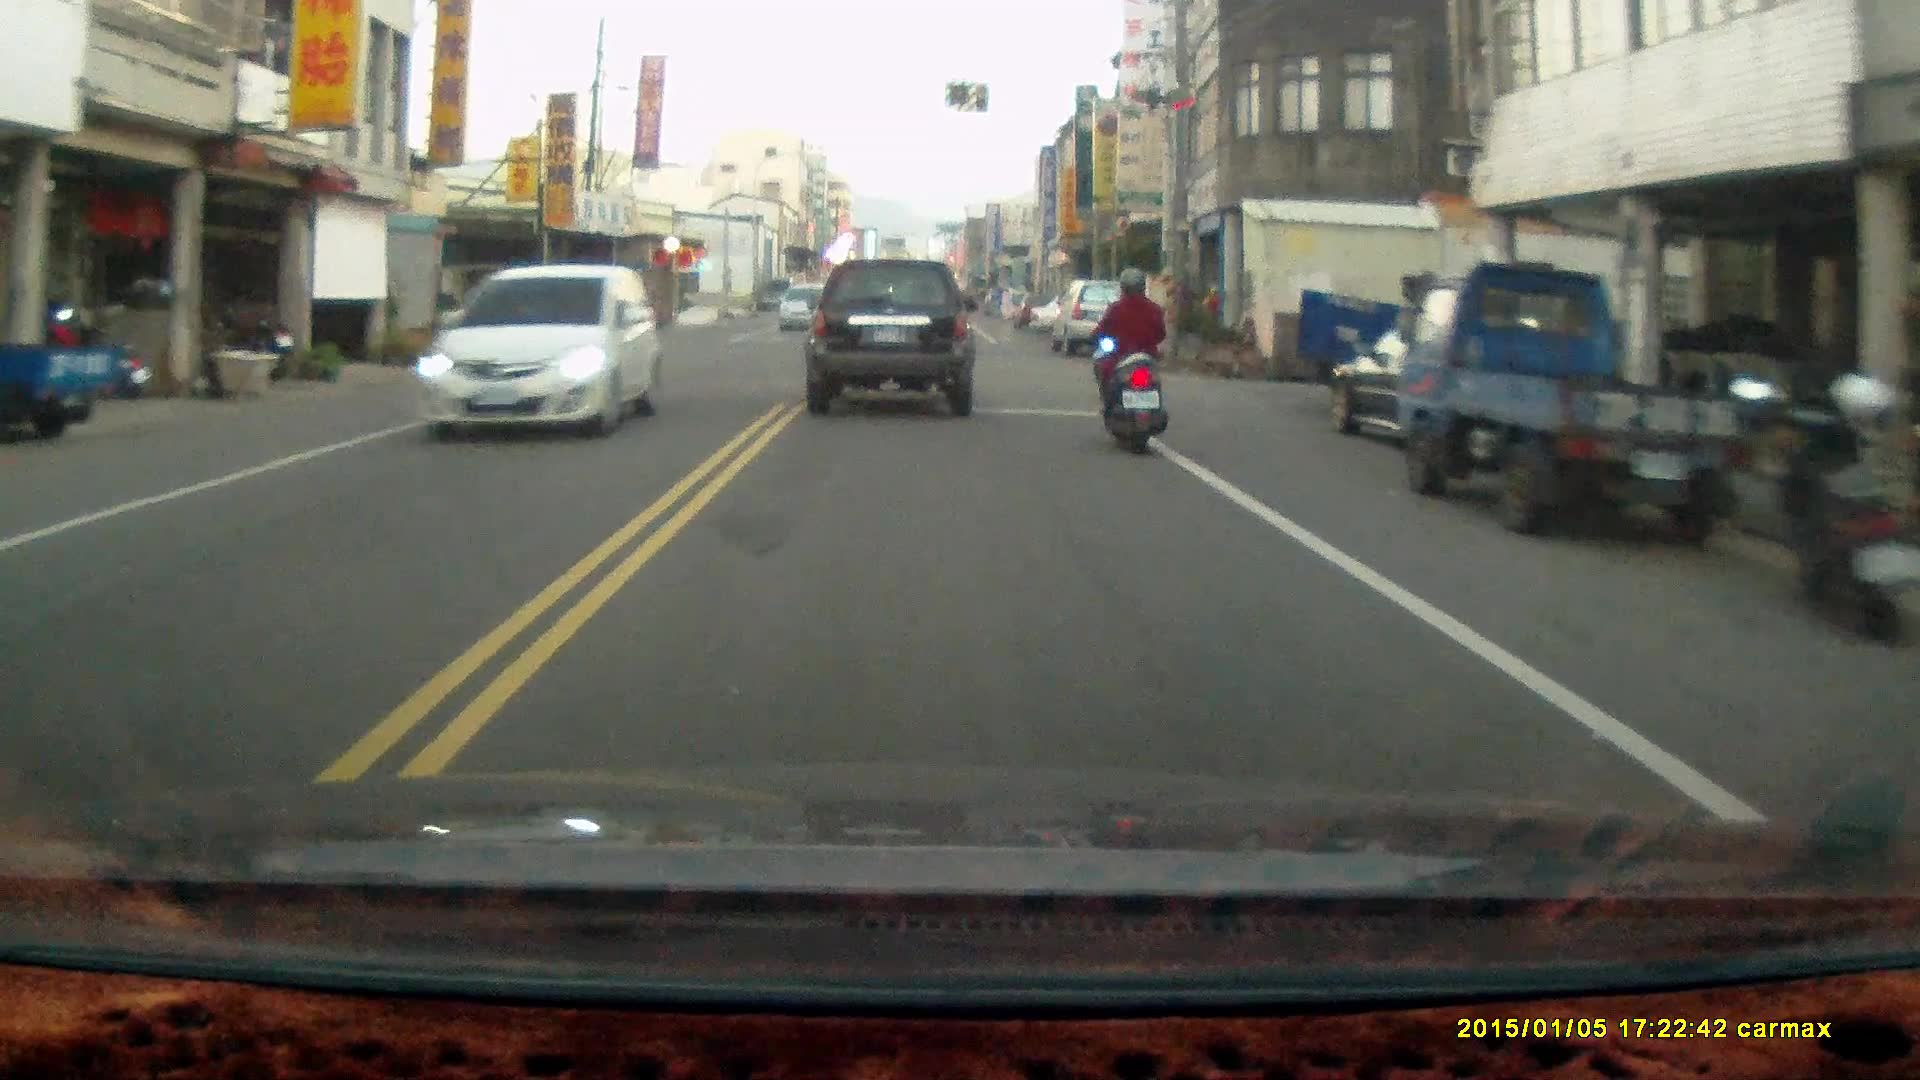rider: (1090, 265, 1169, 456)
vehicle: (1390, 258, 1771, 550), (418, 262, 660, 442), (1292, 278, 1524, 428), (1329, 317, 1575, 458), (804, 254, 984, 420), (1, 267, 138, 445), (1051, 275, 1149, 358)
